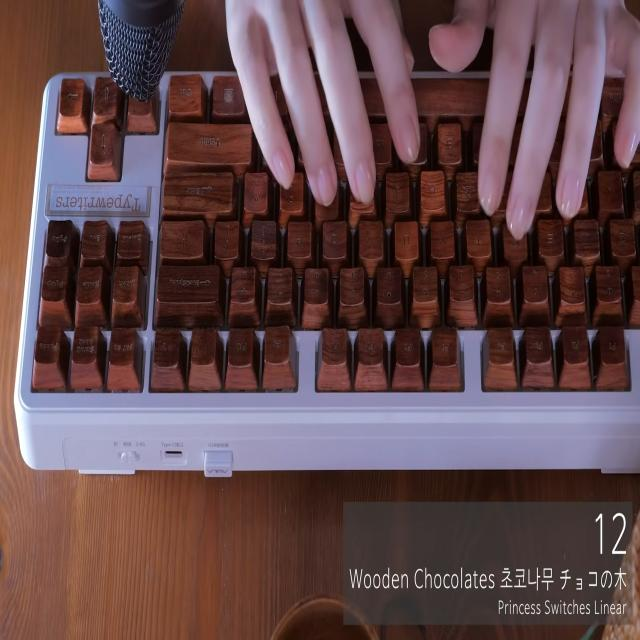keyboard-with-hands: (20, 75, 640, 408)
